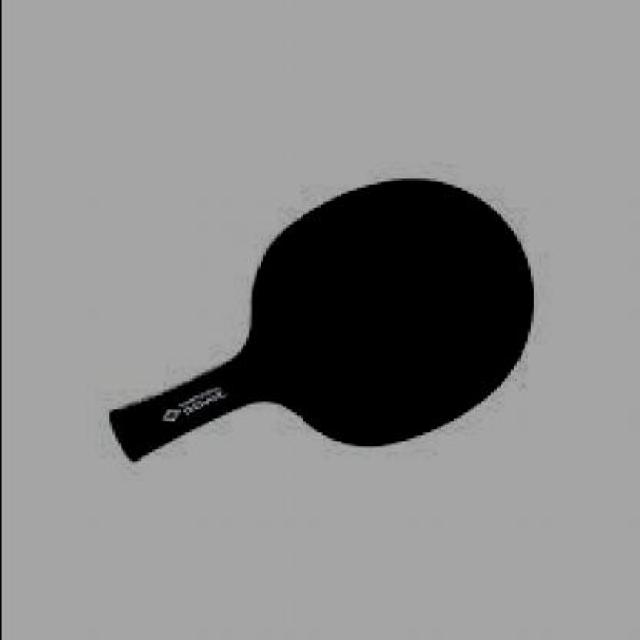table_tennis_racket: (243, 178, 538, 445)
